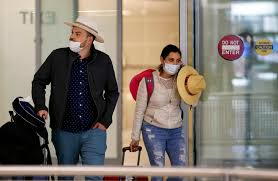mask_weared_incorrect: (68, 28, 95, 54)
with_mask: (160, 50, 181, 78)
